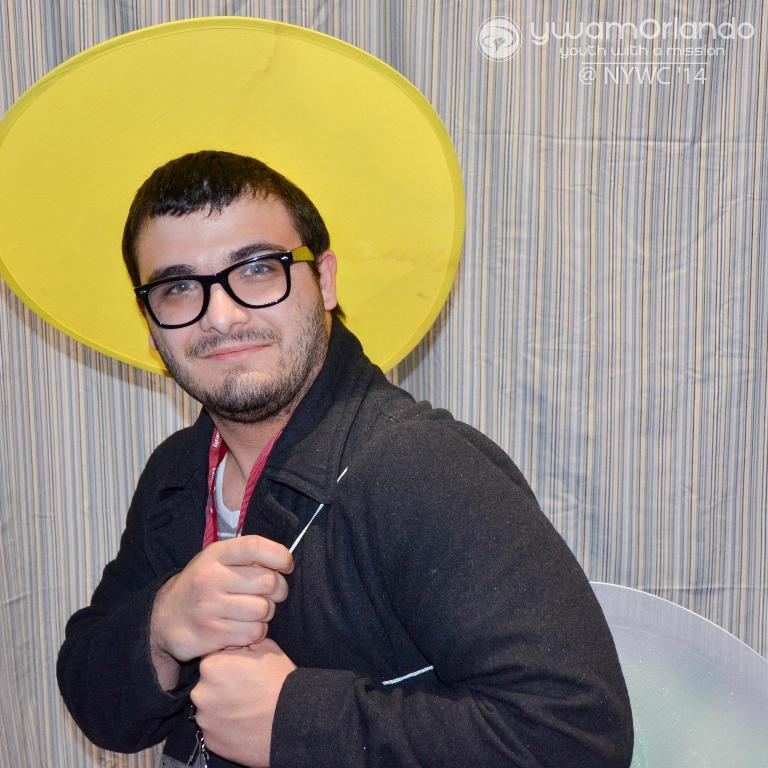Hat: (0, 13, 463, 373)
